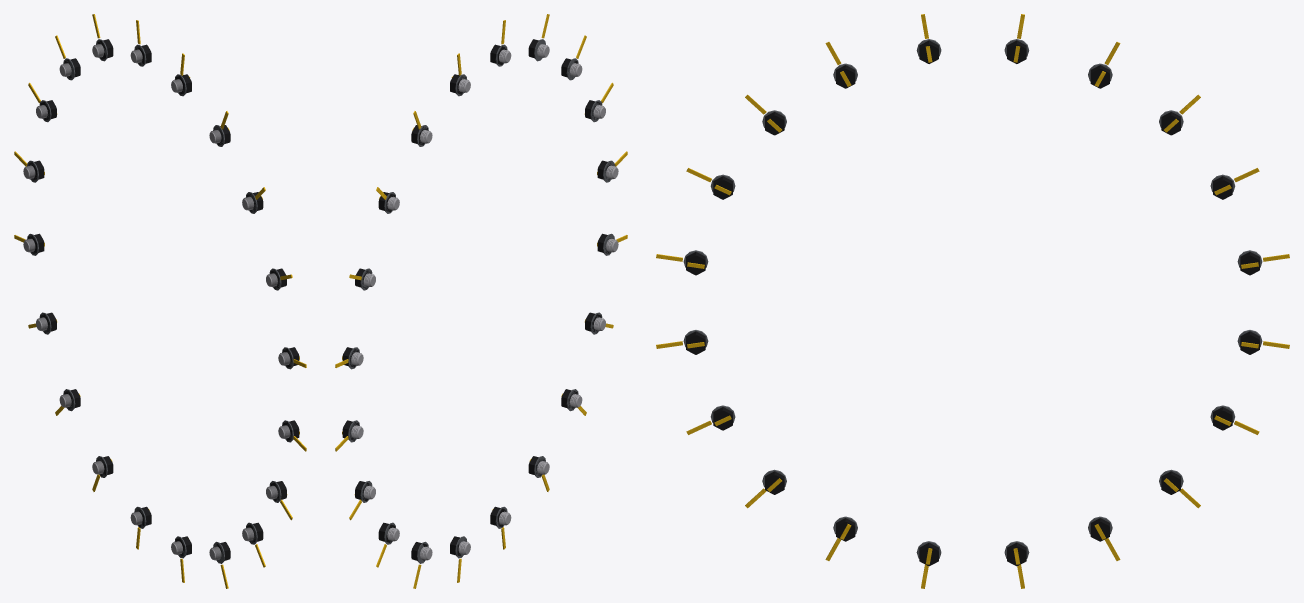
Rendered from shrink_disc_bolts_ok.glb.
3 renders of one model, left to right at view 1: azimuth 30°, elevation 25°; view 2: azimuth 150°, elevation 25°; view 3: azimuth 270°, elevation 25°, orthographic. The views are drawn at different scales.
Visible parts, largest first — view 1: shrink_disc_bolts_ok; view 2: shrink_disc_bolts_ok; view 3: shrink_disc_bolts_ok.
Boxes of the visible parts, x1,y1,x2,y2 form: shrink_disc_bolts_ok: [14, 14, 306, 588]; shrink_disc_bolts_ok: [335, 14, 627, 588]; shrink_disc_bolts_ok: [656, 14, 1289, 588].
Bounding box in the file's own units: 0.028 × 0.9491 × 0.9491.
Materials: 4 (3 with a texture image).
